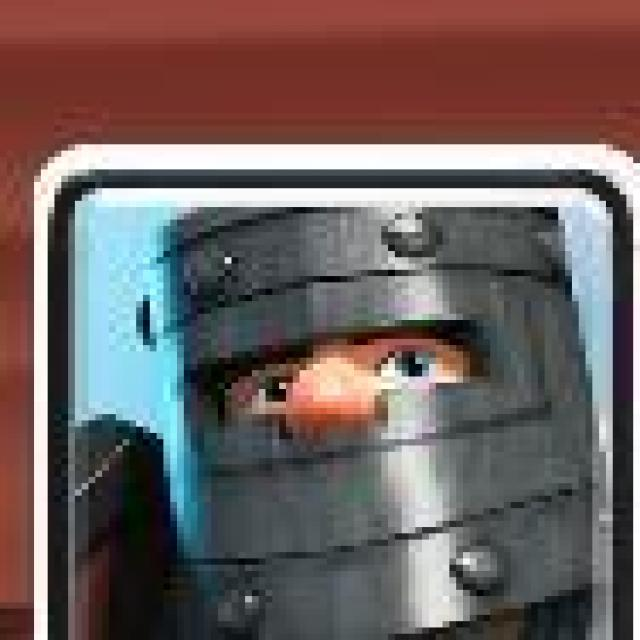Dark_Prince: (33, 144, 638, 640)
